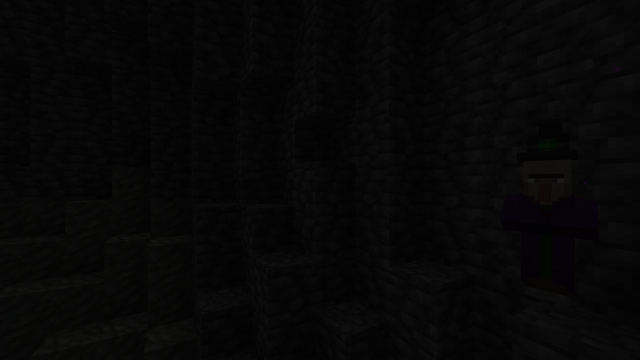sorcieres: (512, 152, 581, 311)
